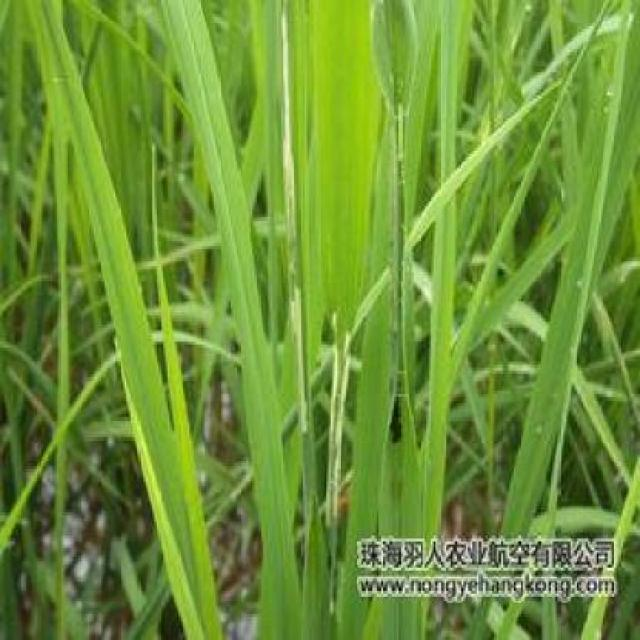leaf-folder: (380, 100, 425, 480)
